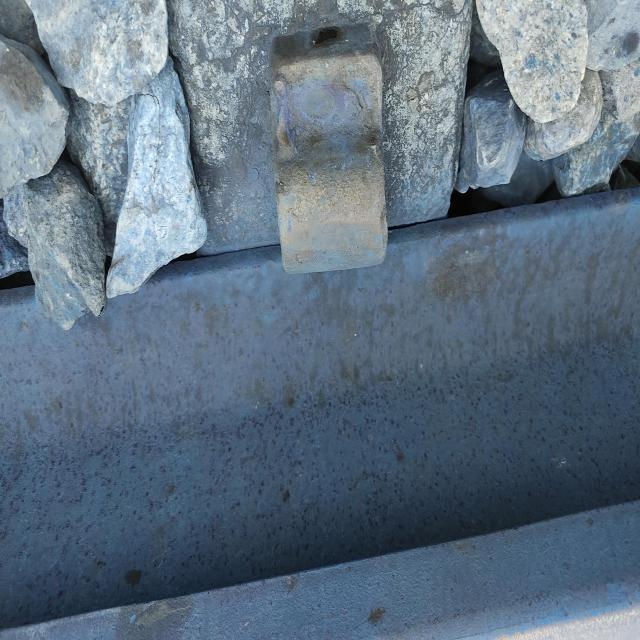Missing Fastener: (242, 23, 408, 303)
